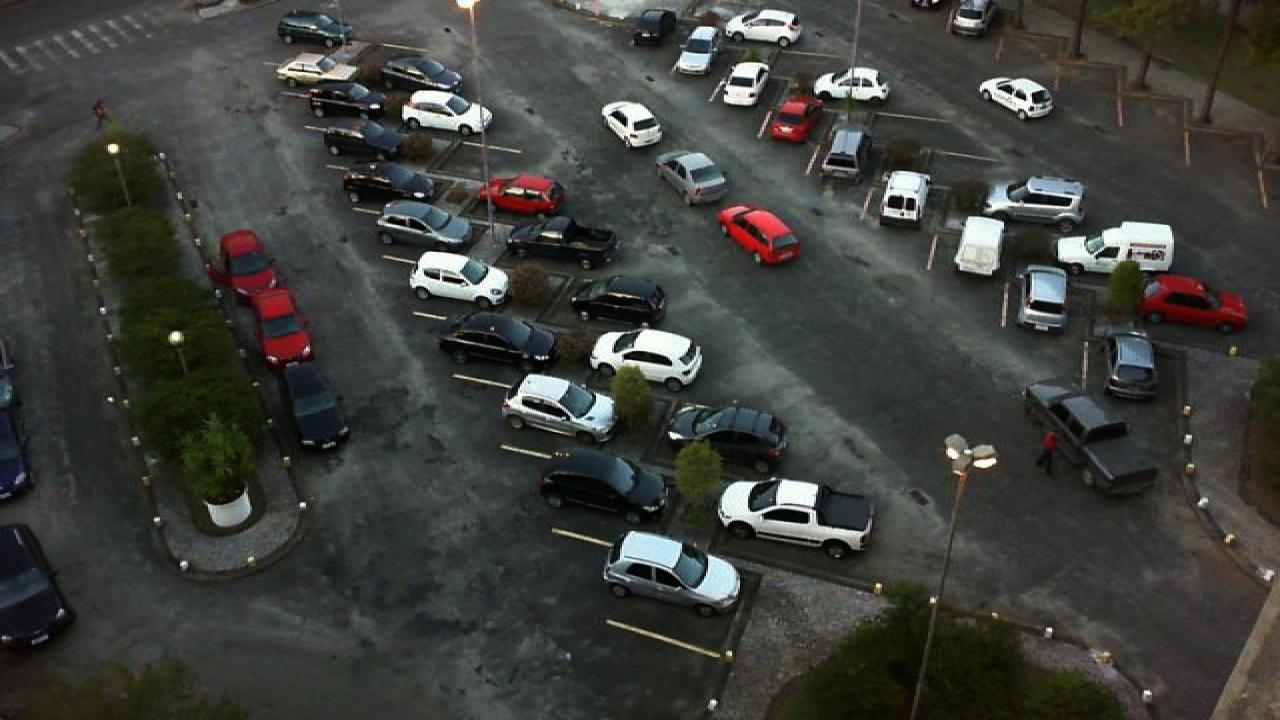Car: (1020, 378, 1162, 497), (712, 476, 880, 560), (598, 529, 746, 619), (534, 447, 674, 524), (0, 523, 78, 650), (496, 372, 618, 446), (660, 400, 792, 465), (584, 326, 710, 394), (434, 309, 560, 376), (1050, 218, 1180, 279), (1132, 271, 1254, 335), (278, 360, 354, 452), (500, 214, 622, 270), (978, 173, 1088, 233), (406, 250, 514, 310), (240, 289, 316, 371), (712, 202, 804, 268), (564, 272, 670, 329), (370, 199, 476, 250), (206, 227, 278, 298), (1096, 328, 1162, 402), (396, 88, 496, 136), (654, 150, 732, 206), (974, 73, 1060, 123), (338, 163, 436, 206), (1014, 263, 1072, 334), (874, 169, 934, 233), (950, 212, 1008, 276), (484, 173, 568, 217), (376, 54, 468, 94), (596, 100, 666, 150), (318, 120, 410, 158), (718, 8, 806, 47), (816, 126, 874, 184), (812, 65, 892, 105), (272, 49, 354, 88), (766, 91, 826, 143), (306, 81, 388, 119), (274, 9, 352, 47), (670, 25, 724, 76), (714, 61, 770, 108), (628, 5, 682, 48), (944, 0, 1002, 37)
